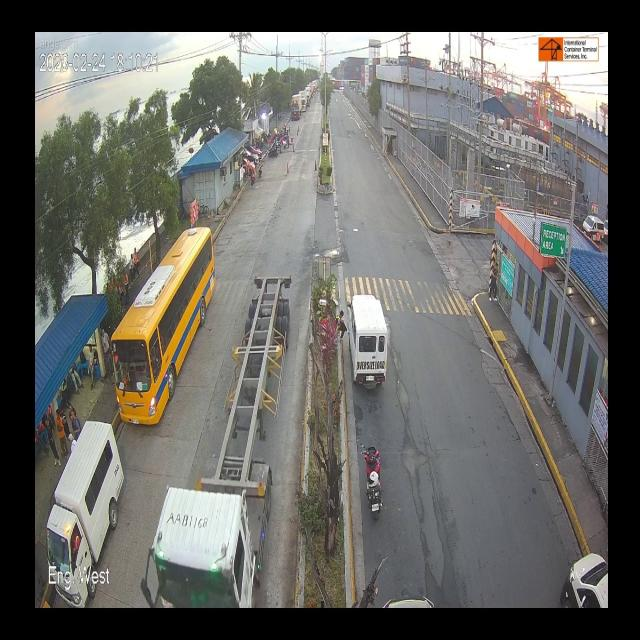car: (47, 444, 117, 560), (349, 290, 386, 397), (562, 549, 608, 610)
motorcycle: (364, 444, 384, 526)
truck: (144, 263, 306, 604), (290, 92, 302, 122)
